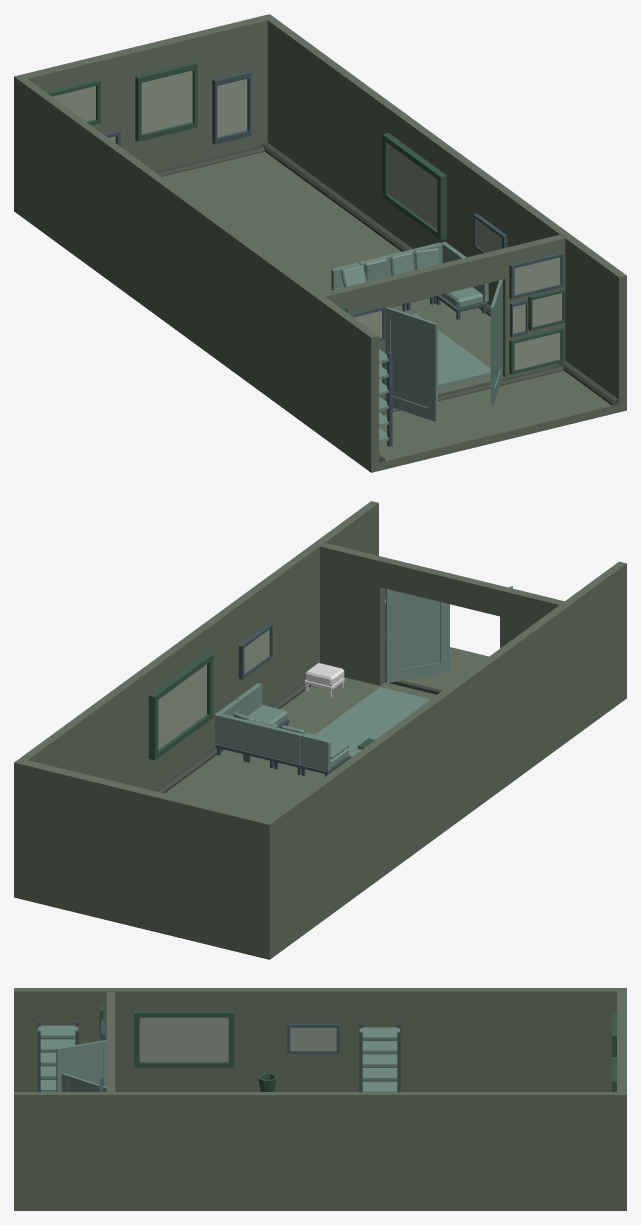
Rendered from LevelLayout.fbx.
3 views of the same model, one above another, from view 1: azimuth 30°, elevation 25°; view 2: azimuth 150°, elevation 25°; view 3: azimuth 270°, elevation 25° (orthographic). The views are drawn at different scales.
Parts seen in each view (by area): view 1: Cube.062, room with flow.001, room with flow.002, Cube.049, Cube.057, Cube.029, Cube.058, Cube.041, Cube.045, Cube.052, Cube.059, room with flow.003 (+5 smaller); view 2: Cube.062, room with flow.001, Cube.029, room with flow.003, Cube.049, Cube.052, Cube.042, Cube.035; view 3: Cube.062, Cube.051, Cube.037, room with flow.002, Cube.038, Cube.050, room with flow.001, room with flow.003.
Part boxes in pixels (x1=…): Cube.062: x1=14, y1=14, x2=626, y2=472; room with flow.001: x1=321, y1=234, x2=565, y2=400; room with flow.002: x1=385, y1=307, x2=437, y2=421; Cube.049: x1=382, y1=133, x2=446, y2=240; Cube.057: x1=135, y1=62, x2=197, y2=141; Cube.029: x1=331, y1=242, x2=488, y2=319; Cube.058: x1=212, y1=70, x2=251, y2=144; Cube.041: x1=509, y1=252, x2=564, y2=299; Cube.045: x1=509, y1=327, x2=564, y2=374; Cube.052: x1=412, y1=314, x2=490, y2=388; Cube.059: x1=46, y1=79, x2=100, y2=125; room with flow.003: x1=490, y1=279, x2=502, y2=404; Cube.062: x1=14, y1=501, x2=626, y2=959; room with flow.001: x1=320, y1=543, x2=564, y2=685; Cube.029: x1=215, y1=683, x2=349, y2=776; room with flow.003: x1=385, y1=588, x2=449, y2=682; Cube.049: x1=148, y1=653, x2=213, y2=760; Cube.052: x1=315, y1=687, x2=430, y2=758; Cube.042: x1=238, y1=623, x2=272, y2=679; Cube.035: x1=305, y1=663, x2=344, y2=686; Cube.062: x1=14, y1=988, x2=626, y2=1210; Cube.051: x1=134, y1=1010, x2=234, y2=1067; Cube.037: x1=359, y1=1023, x2=400, y2=1091; room with flow.002: x1=56, y1=1040, x2=106, y2=1091; Cube.038: x1=37, y1=1021, x2=78, y2=1091; Cube.050: x1=287, y1=1023, x2=339, y2=1053; room with flow.001: x1=106, y1=991, x2=115, y2=1091; room with flow.003: x1=61, y1=1073, x2=106, y2=1091.
Size of the model in its own units: 1253 by 632 by 3034.
